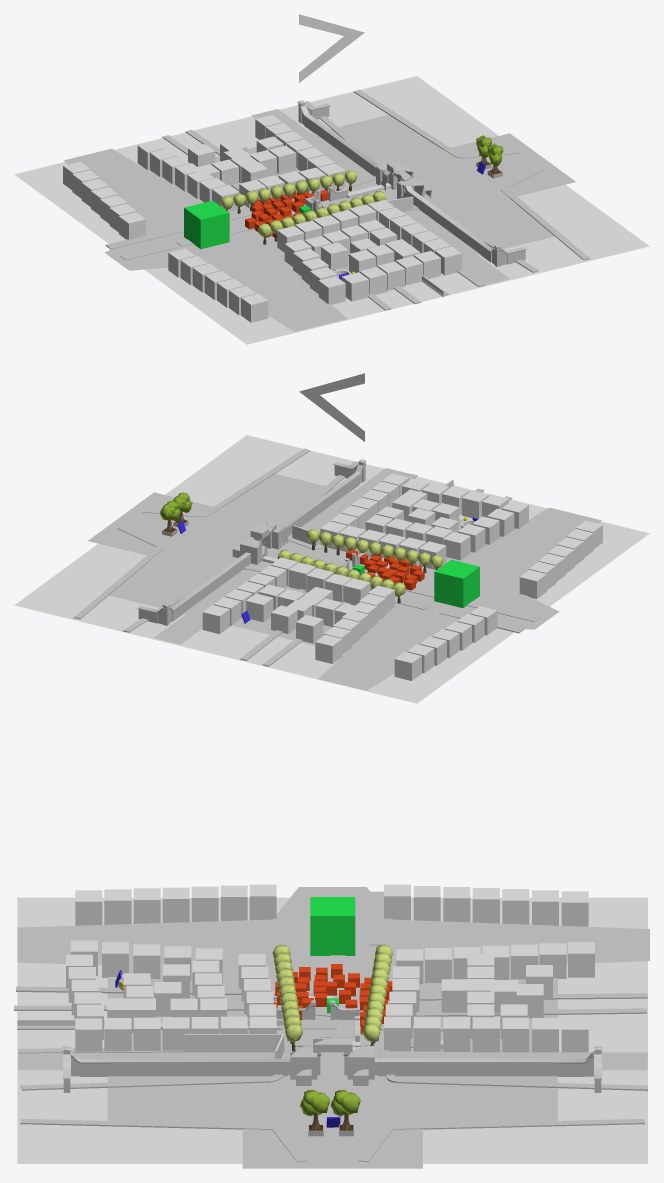
The model's file is Level Krapyak.fbx.
The picture shows the model from 3 angles, top to bottom: view 1: azimuth 30°, elevation 25°; view 2: azimuth 150°, elevation 25°; view 3: azimuth 270°, elevation 25°; orthographic projection. The views are drawn at different scales.
Visible parts, largest first — view 1: Denah Jalan.001, Ground Outer, Ground, Cube.050, Plengkong Gading, Bangunan.019, P.Asem, Bangunan.020, Bangunan.013, Bangunan.004, Bangunan, Bangunan.002 (+14 smaller); view 2: Denah Jalan.001, Ground Outer, Ground, Cube.050, Plengkong Gading, Bangunan.020, P.Asem, Bangunan.019, Bangunan.013, Bangunan.010, Bangunan.002, Bangunan (+16 smaller); view 3: Denah Jalan.001, Ground Outer, Ground, Cube.050, Plengkong Gading, Bangunan.019, Bangunan.010, Bangunan.020, Bangunan.013, Bangunan, P.Asem, Bangunan.002 (+16 smaller).
Boxes of the visible parts, bbox=[...] form: Denah Jalan.001: bbox=[64, 109, 575, 331]; Ground Outer: bbox=[14, 76, 649, 344]; Ground: bbox=[152, 115, 554, 285]; Cube.050: bbox=[105, 89, 590, 310]; Plengkong Gading: bbox=[313, 120, 485, 254]; Bangunan.019: bbox=[168, 248, 268, 322]; P.Asem: bbox=[221, 170, 386, 244]; Bangunan.020: bbox=[63, 161, 145, 239]; Bangunan.013: bbox=[137, 141, 239, 211]; Bangunan.004: bbox=[341, 251, 440, 301]; Bangunan: bbox=[367, 200, 461, 275]; Bangunan.002: bbox=[284, 239, 345, 304]; Denah Jalan.001: bbox=[88, 468, 601, 690]; Ground Outer: bbox=[14, 435, 649, 703]; Ground: bbox=[109, 474, 501, 653]; Cube.050: bbox=[73, 448, 539, 666]; Plengkong Gading: bbox=[177, 479, 350, 612]; Bangunan.020: bbox=[394, 606, 497, 680]; P.Asem: bbox=[277, 529, 442, 603]; Bangunan.019: bbox=[519, 520, 602, 598]; Bangunan.013: bbox=[315, 585, 394, 663]; Bangunan.010: bbox=[202, 557, 297, 633]; Bangunan.002: bbox=[443, 501, 528, 560]; Bangunan: bbox=[320, 473, 409, 549]; Denah Jalan.001: bbox=[17, 887, 649, 1168]; Ground Outer: bbox=[17, 897, 647, 1163]; Ground: bbox=[107, 966, 557, 1124]; Cube.050: bbox=[14, 891, 647, 1162]; Plengkong Gading: bbox=[105, 1037, 561, 1085]; Bangunan.019: bbox=[75, 884, 276, 925]; Bangunan.010: bbox=[384, 1016, 588, 1052]; Bangunan.020: bbox=[384, 884, 588, 926]; Bangunan.013: bbox=[396, 942, 594, 983]; Bangunan: bbox=[75, 1016, 276, 1051]; P.Asem: bbox=[272, 944, 392, 1051]; Bangunan.002: bbox=[70, 940, 222, 982].
Size of the model in its own units: 7402 by 3478 by 7061.
